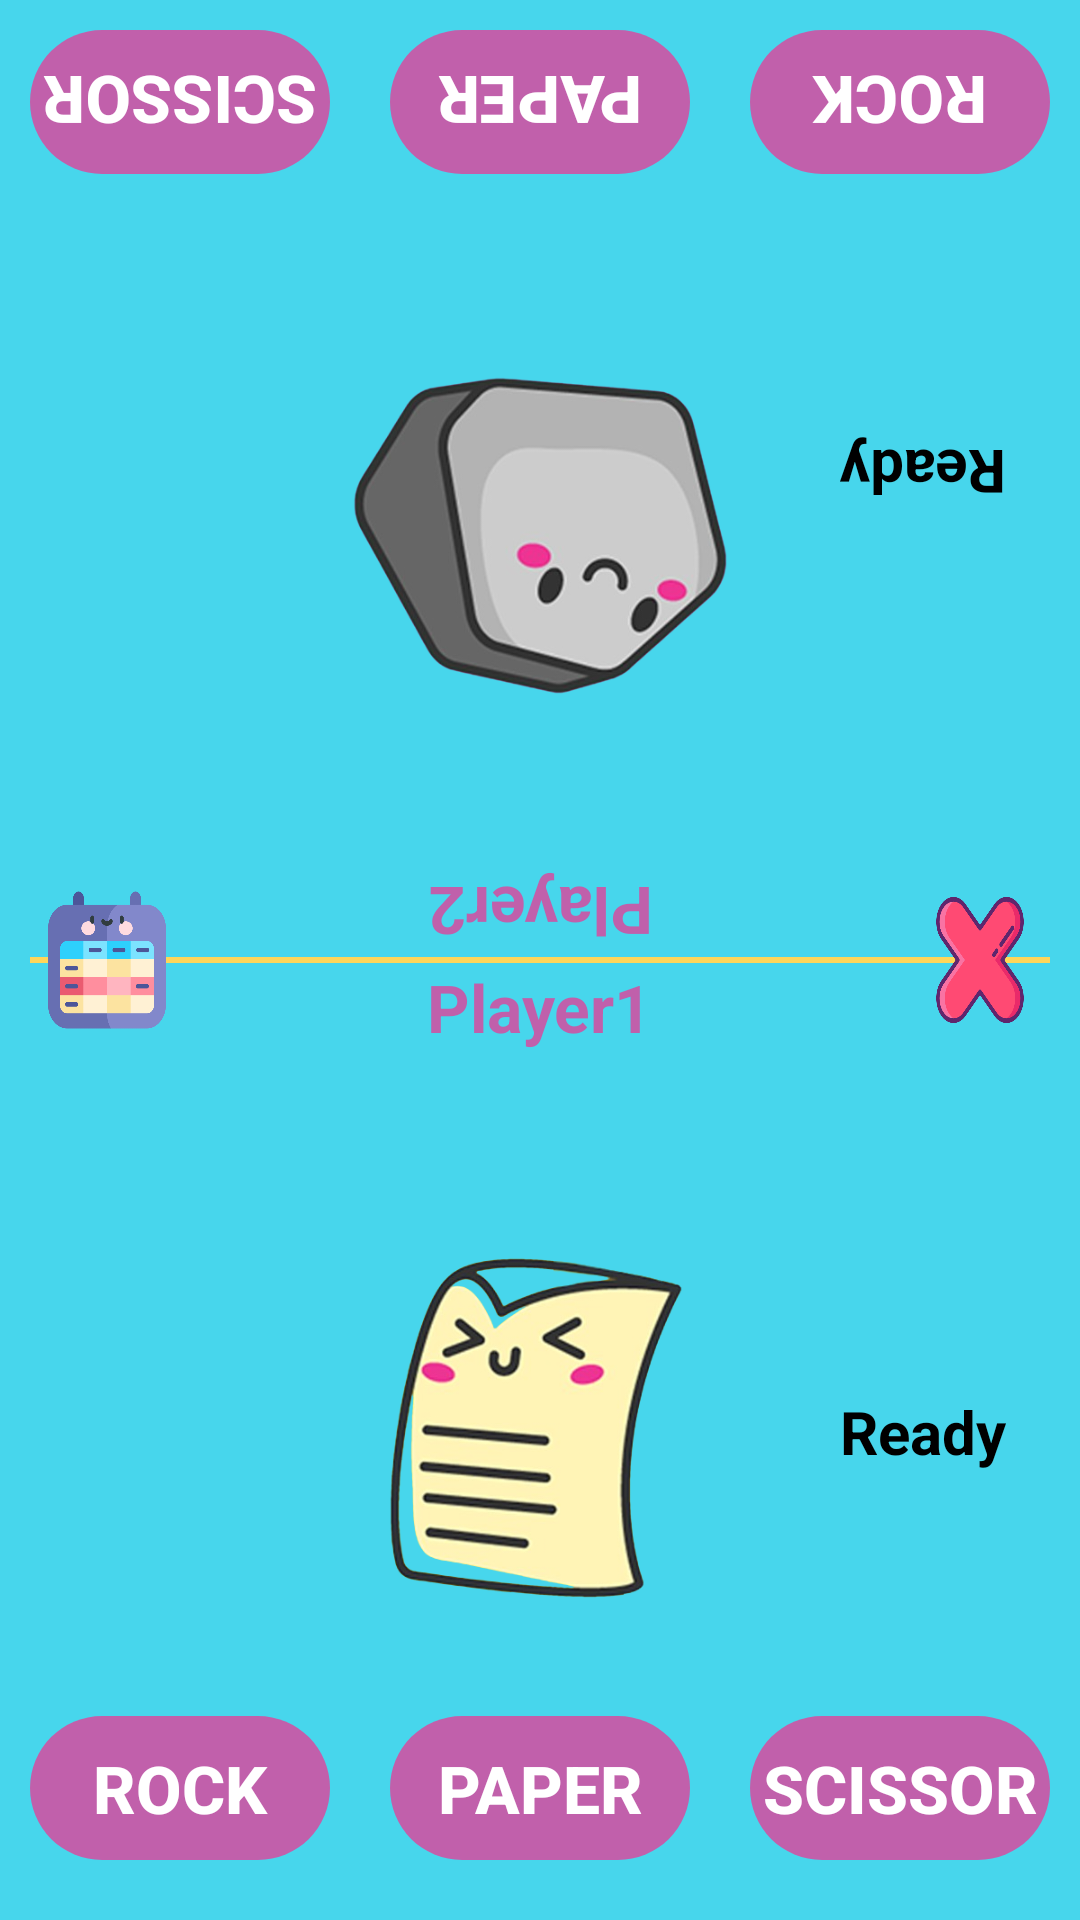

Icon click points for this 1080x1920 phone screenshot, format [x,y]:
cross: [980,960]
scoreboard: [107,960]
